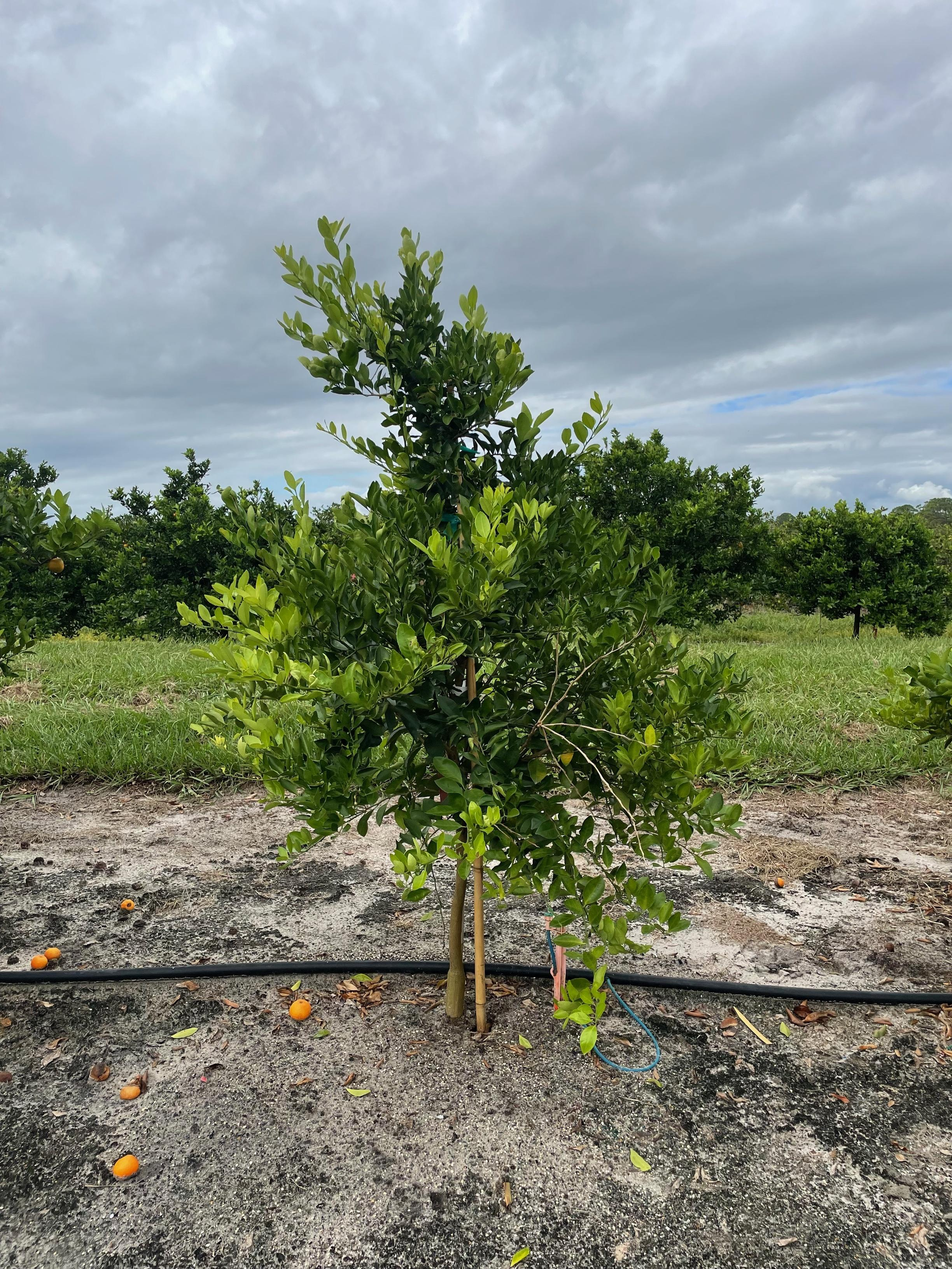fruit_on_ground: (45, 555, 66, 575)
fruit_on_tree: (111, 1151, 140, 1180), (287, 996, 314, 1023), (88, 1060, 111, 1083), (118, 1082, 142, 1100), (29, 953, 49, 970), (43, 944, 62, 961), (119, 896, 137, 912), (773, 876, 786, 888)
